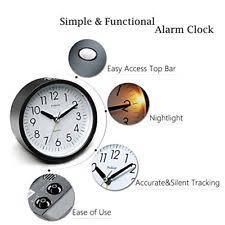alarm_clock: (7, 74, 96, 164), (15, 74, 96, 164)
